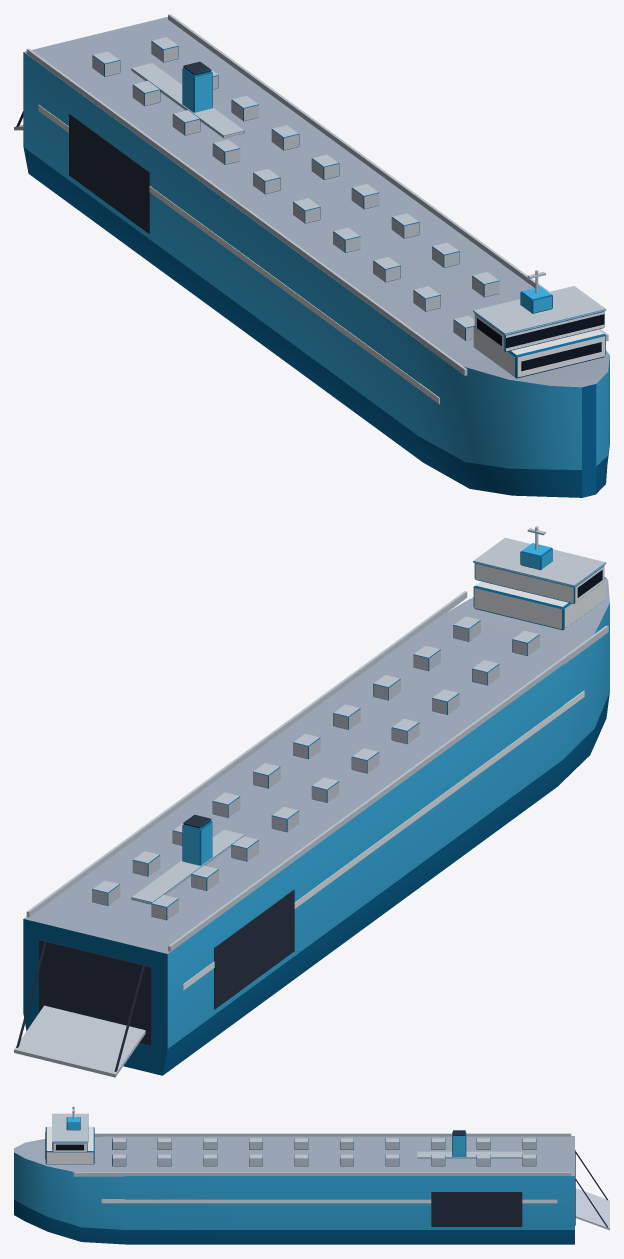
Rendered from roro_ship.glb.
3 views of the same model, one above another, from view 1: azimuth 30°, elevation 25°; view 2: azimuth 150°, elevation 25°; view 3: azimuth 270°, elevation 25° (orthographic). The views are drawn at different scales.
Visible parts, largest first — view 1: roro_ship; view 2: roro_ship; view 3: roro_ship.
Part boxes in pixels (x1,y1,x2,y2): roro_ship: (14,14,609,497); roro_ship: (14,526,609,1077); roro_ship: (14,1106,609,1244).
Size of the model in its own units: 27.24 by 37.5 by 170.
